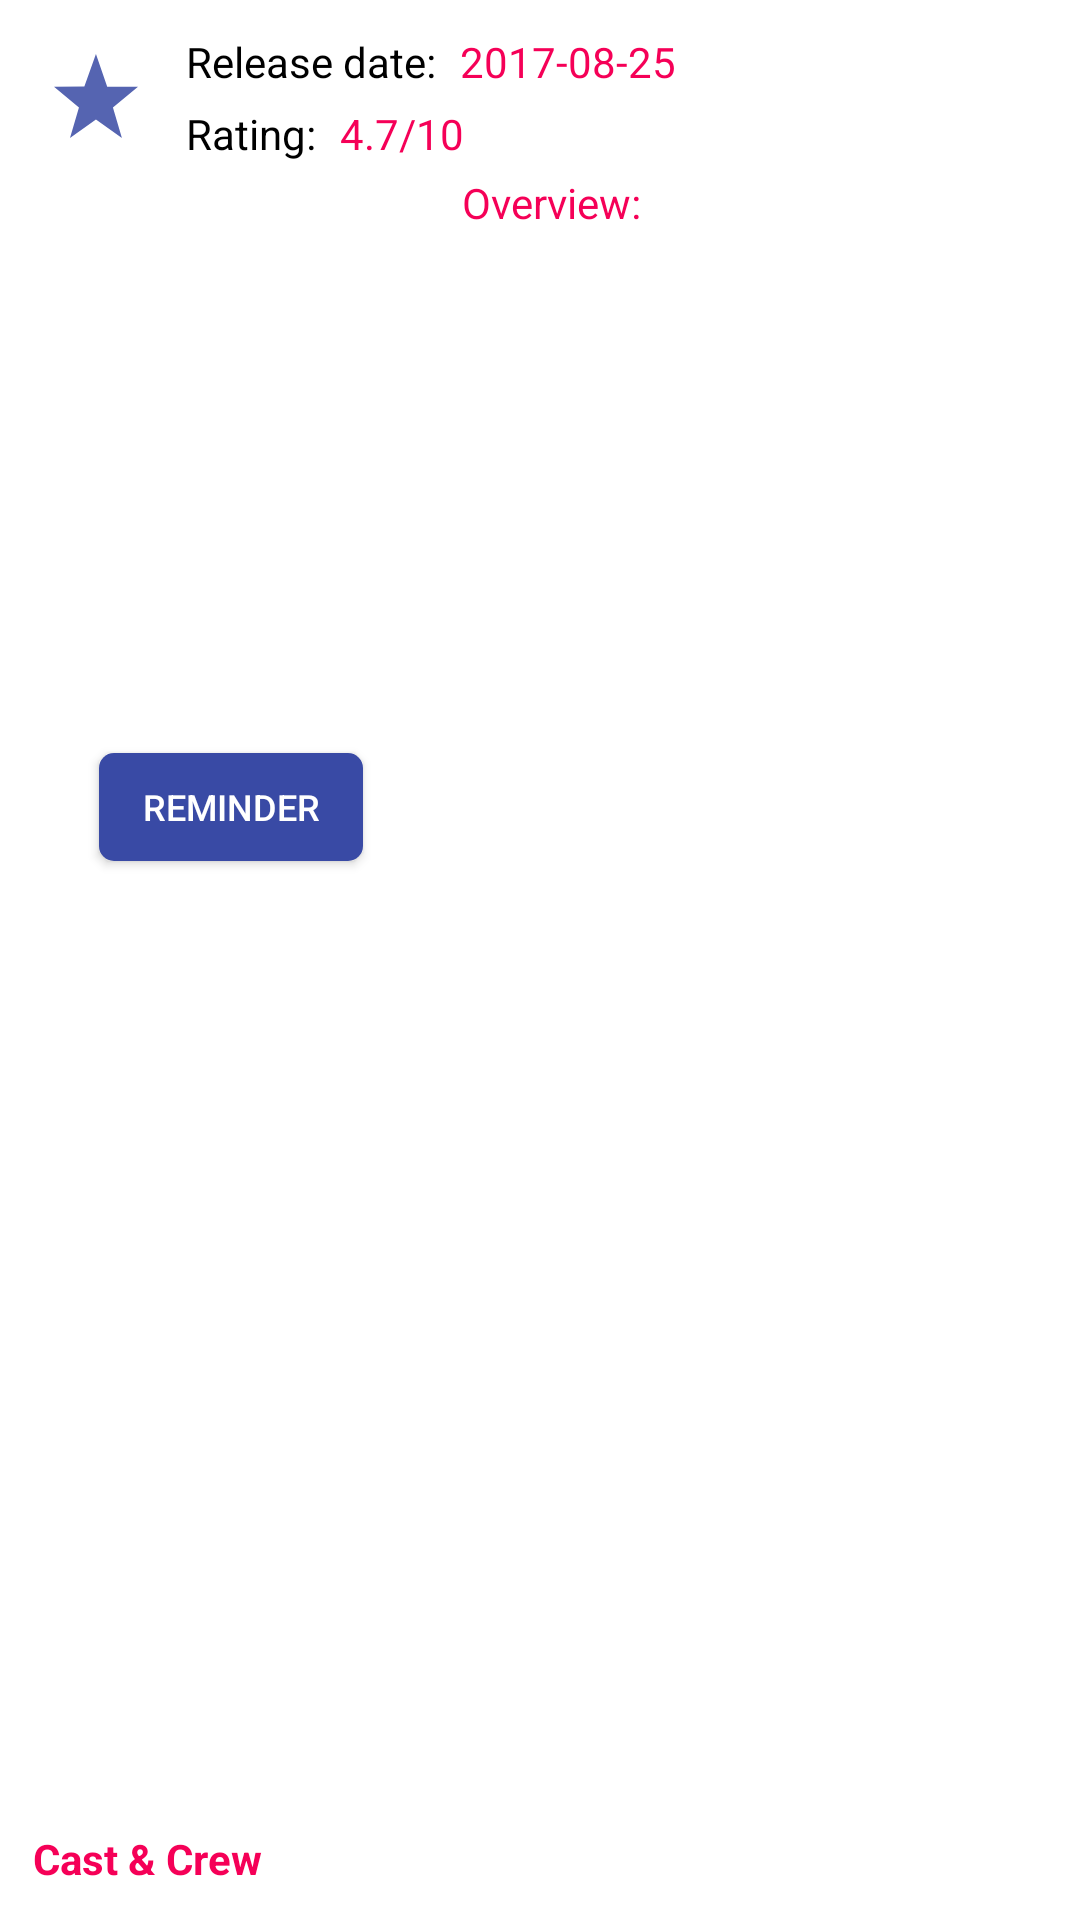

Screen size 1080 × 1920. Icon name, then its box in pixels as [x1, y1, x2, y2]:
star picked: [54, 54, 138, 138]
